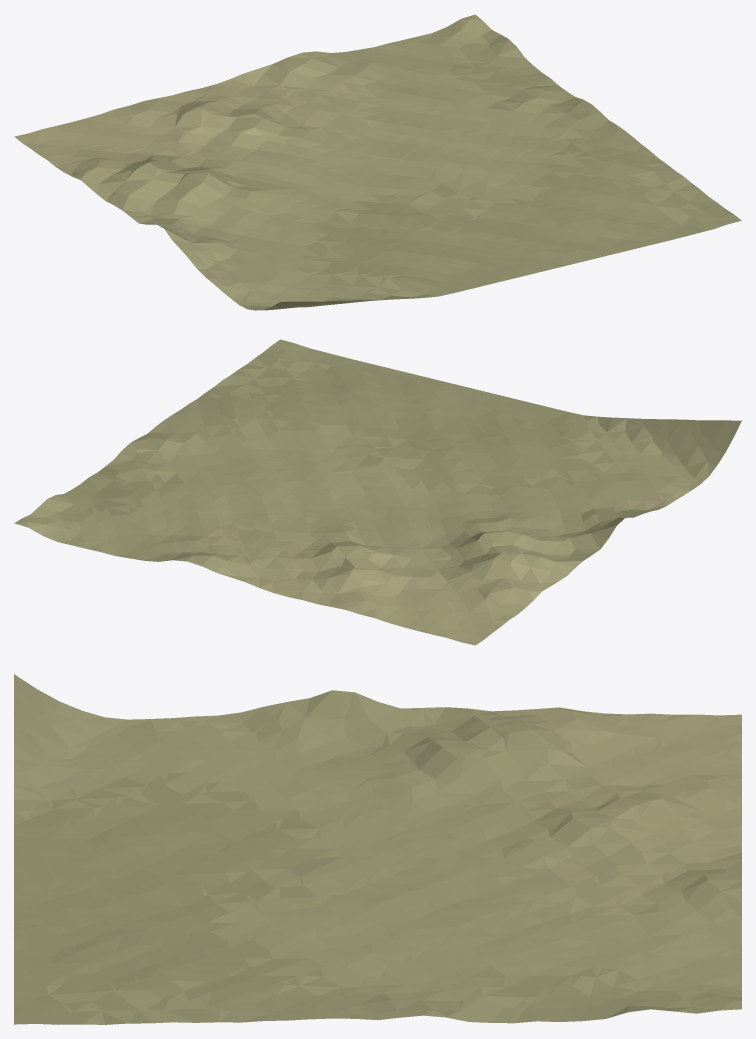
The model's file is Ground_-1_2.glb.
3 views of the same model, one above another, from view 1: azimuth 30°, elevation 25°; view 2: azimuth 150°, elevation 25°; view 3: azimuth 270°, elevation 25° (orthographic). The views are drawn at different scales.
Parts seen in each view (by area): view 1: Ground_-1_2; view 2: Ground_-1_2; view 3: Ground_-1_2.
Part boxes in pixels (x1=…): Ground_-1_2: x1=14, y1=14, x2=741, y2=310; Ground_-1_2: x1=14, y1=339, x2=741, y2=645; Ground_-1_2: x1=14, y1=674, x2=741, y2=1024.
Size of the model in its own units: 768 by 53.38 by 768.
